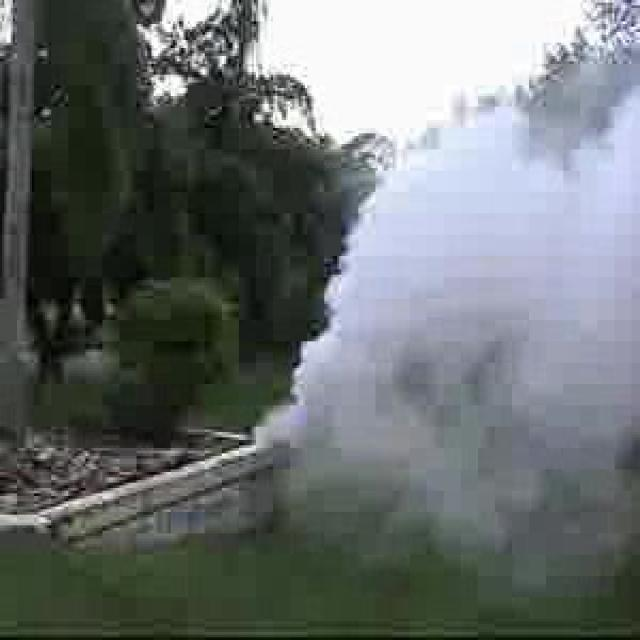Smoke: (256, 80, 640, 574)
